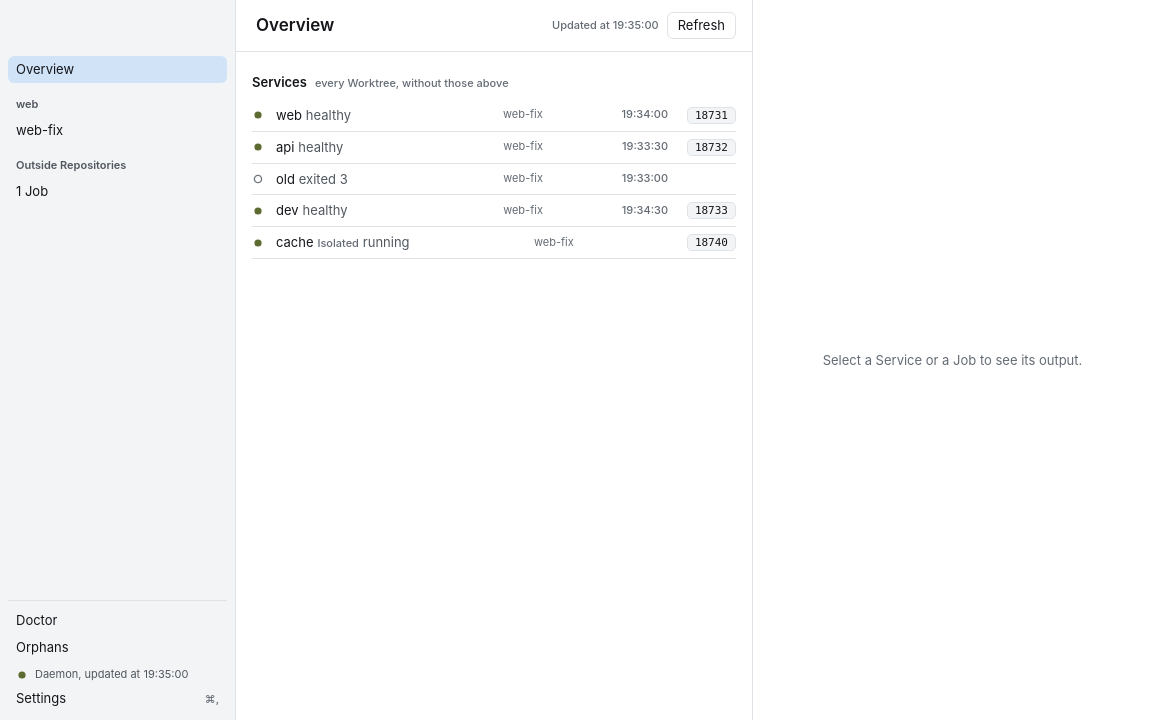
the Worktree screen › lists what runs in the Worktree: Services, Isolated Compose services, Foreign processes and Jobs
What coordinates should you click on to do the following:
click the button "web-fix"
I would click on:
 (118, 130)
Its box is [8,117,227,144].
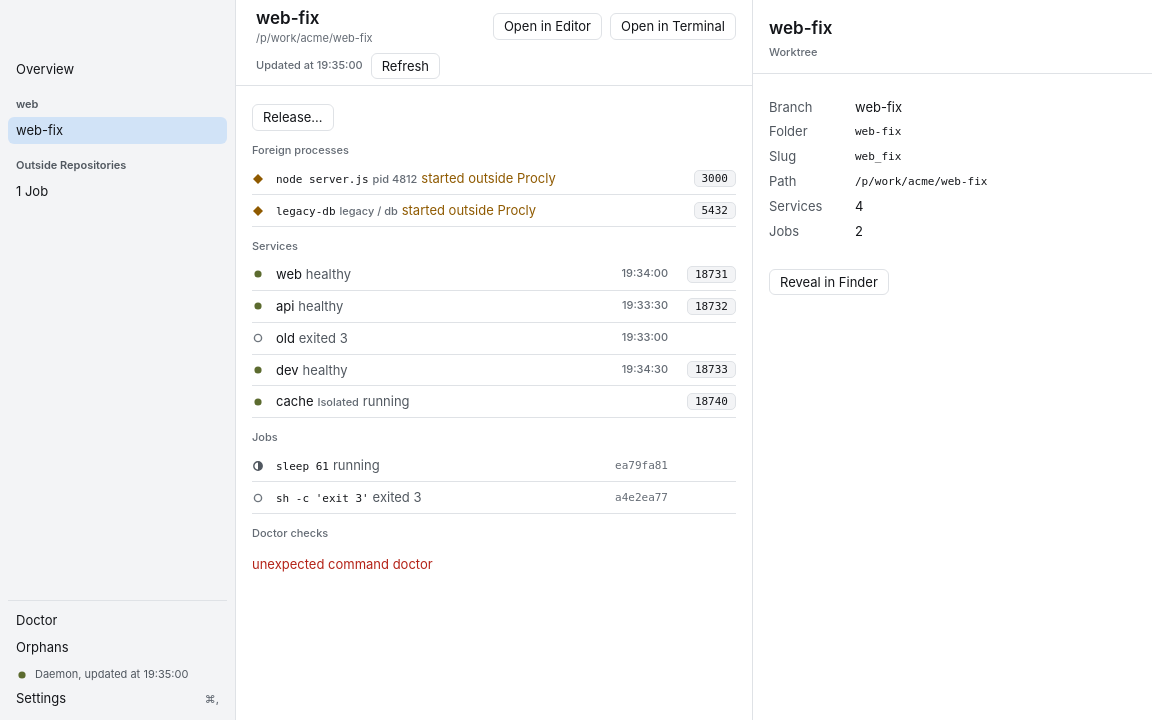
Expected: the heading "Services" is shown, [252,239,298,253]
Expected: the heading "Foreign processes" is shown, [252,143,349,157]
Expected: the text "node server.js" is shown, [276,172,369,188]
